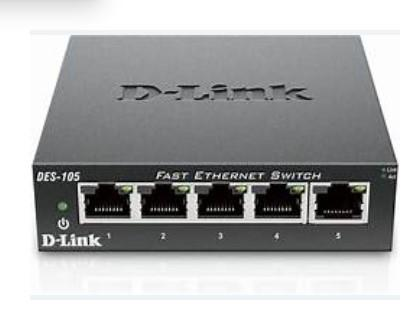NetworkSwitch: (31, 34, 399, 255)
